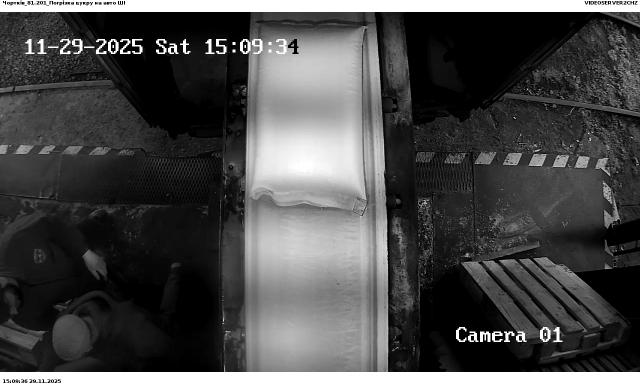bag: (251, 22, 368, 215)
